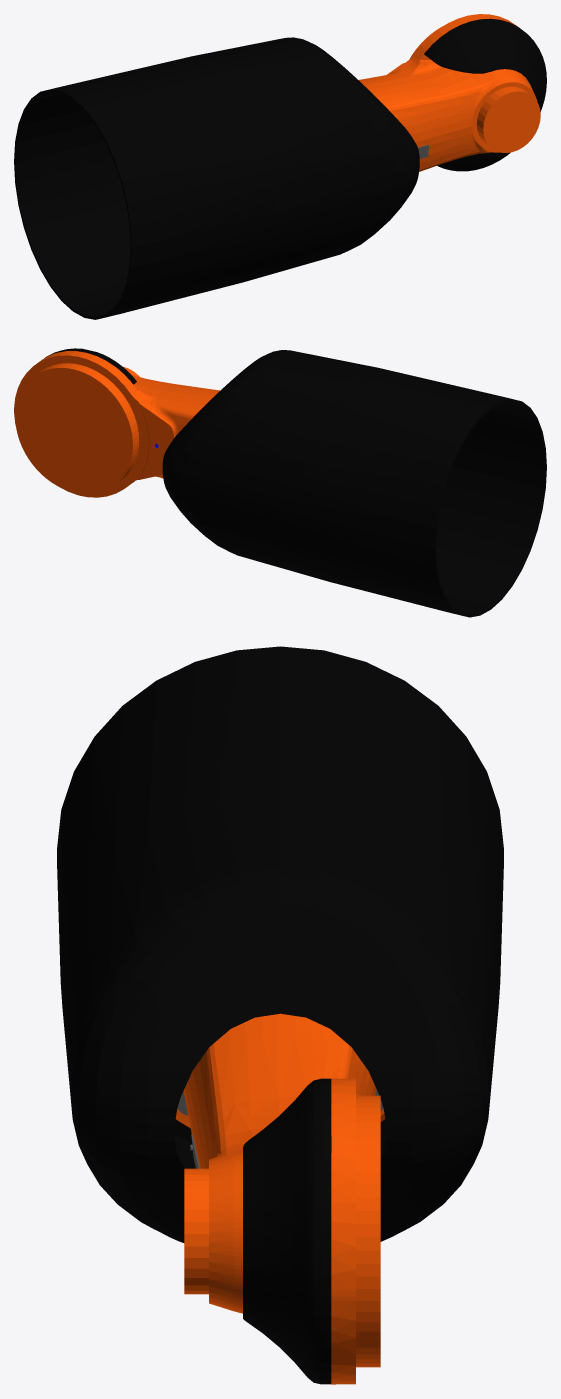
The picture shows the model from 3 angles, top to bottom: view 1: azimuth 30°, elevation 25°; view 2: azimuth 150°, elevation 25°; view 3: azimuth 270°, elevation 25°; orthographic projection. The views are drawn at different scales.
Visible parts, largest first — view 1: link_4; view 2: link_4; view 3: link_4.
Boxes of the visible parts, x1,y1,x2,y2 form: link_4: (14, 14, 546, 319); link_4: (14, 348, 546, 617); link_4: (57, 646, 503, 1384).
Bounding box in the file's own units: 0.6226 × 0.263 × 0.263.
